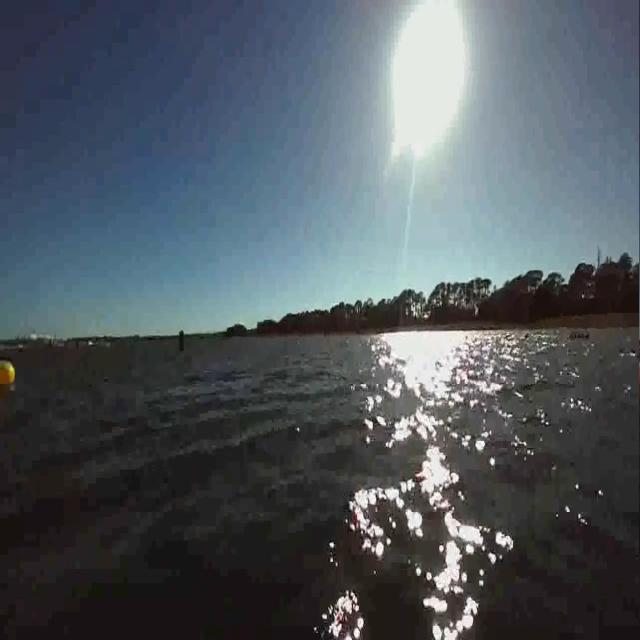yellow-buoy: (0, 361, 15, 386)
